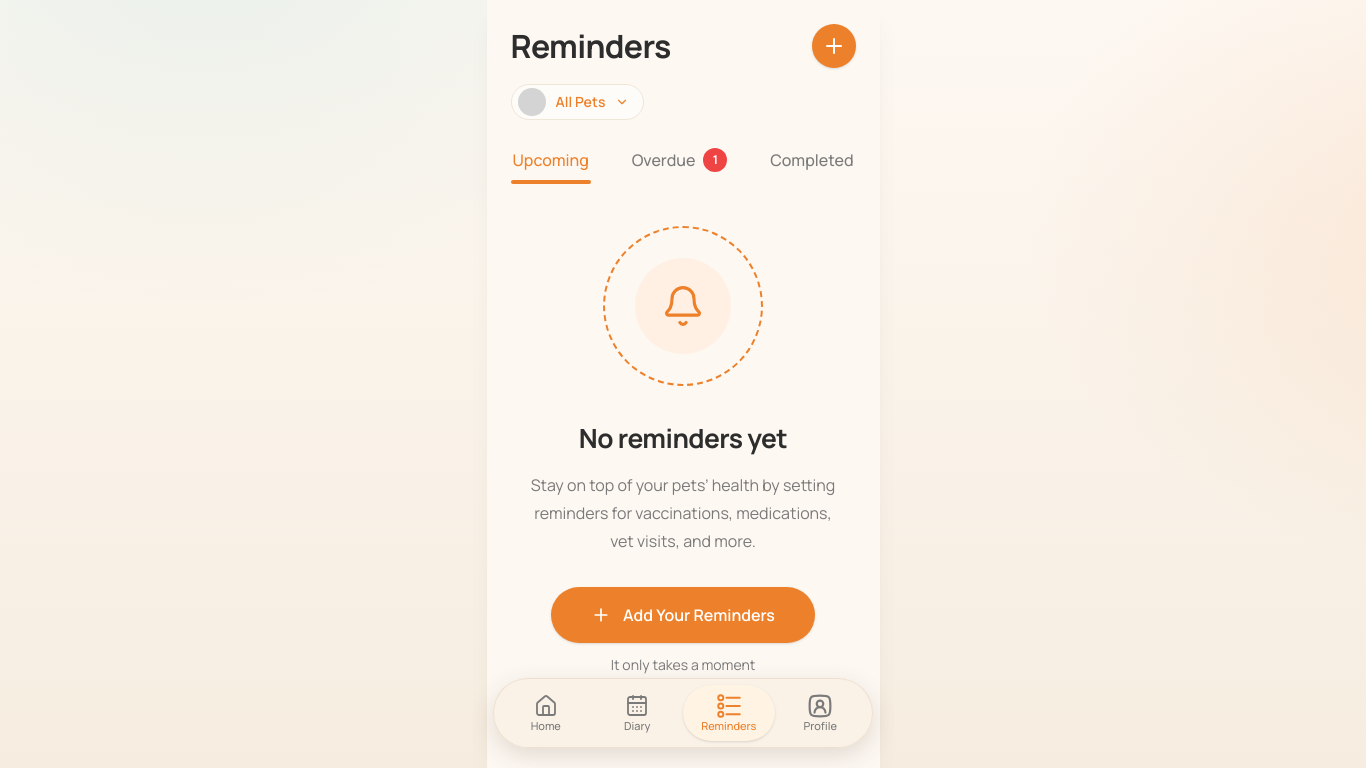
Test: RemindersHome › moves a passed reminder from upcoming to overdue
The image size is (1366, 768).
Expected: the heading "No reminders yet" is shown, top-left (579, 422), bottom-right (787, 455)
Click the tab with aria-label "Overdue, 1 reminder" at (680, 160), box top-left (630, 136), bottom-right (729, 184)
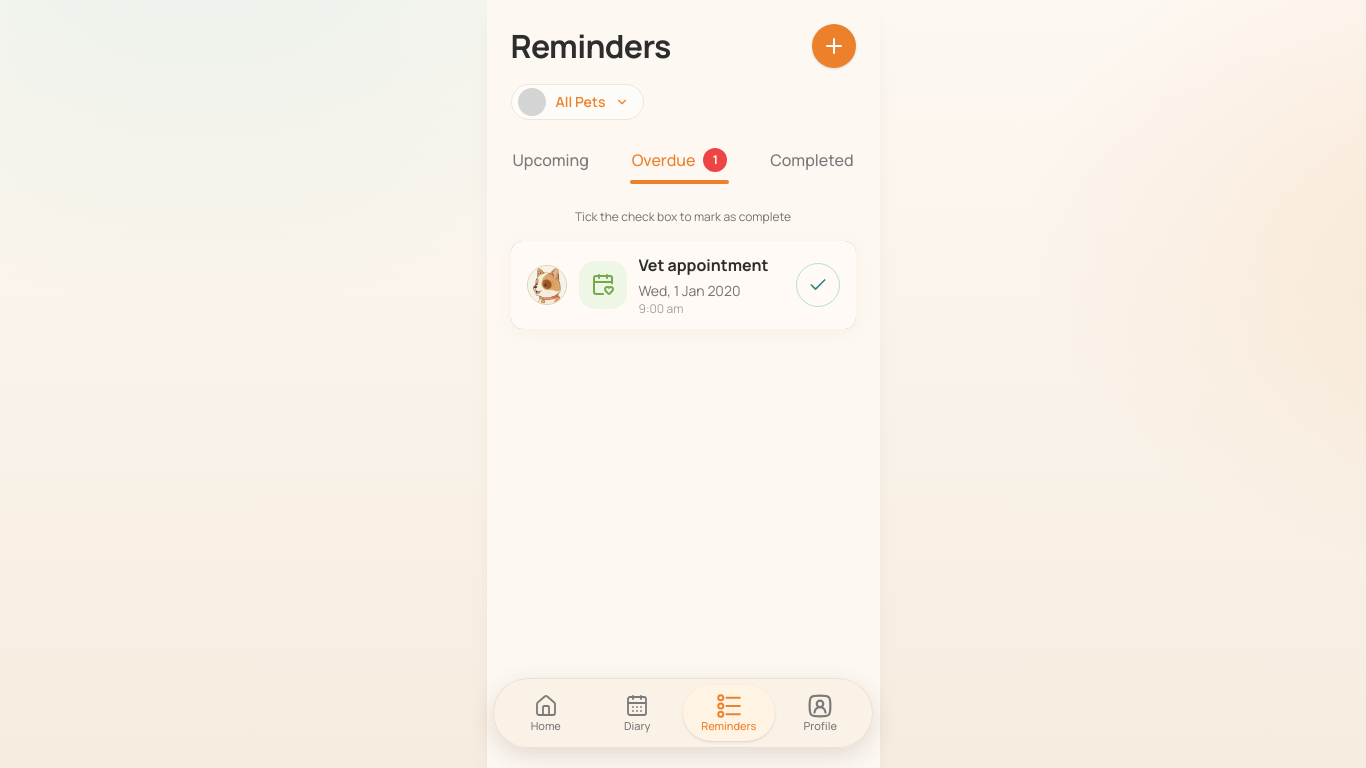
Expected: the text "Vet appointment" is shown, top-left (638, 253), bottom-right (784, 277)
